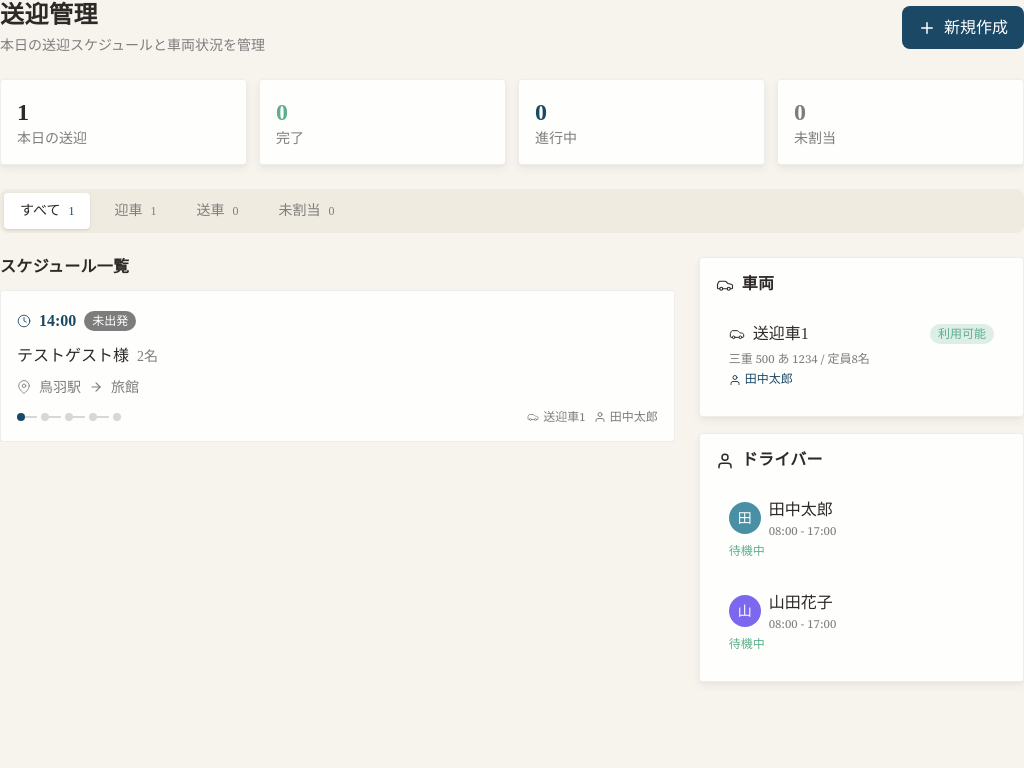
Test: TaskDetailModalの共通Modal移行 › ESCキーでTaskDetailModalが閉じる
Click the text "テストゲスト様" at (88, 356), box [17,347,158,364]
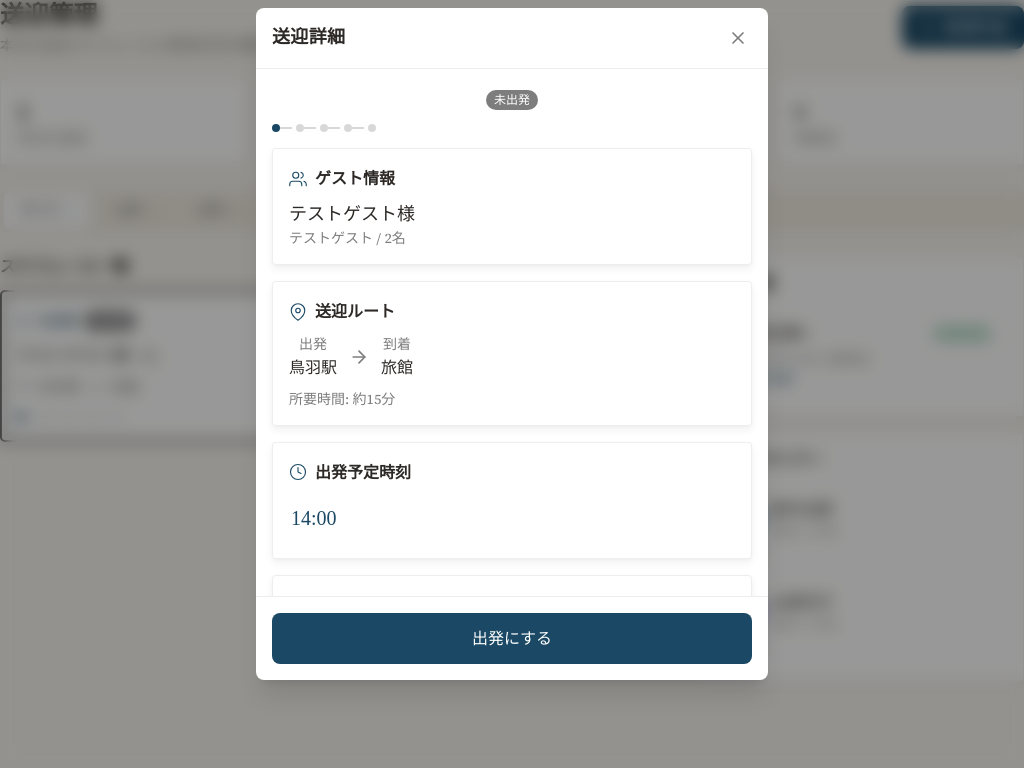
Check: the dialog is shown, box [256,8,768,680]
Press Escape
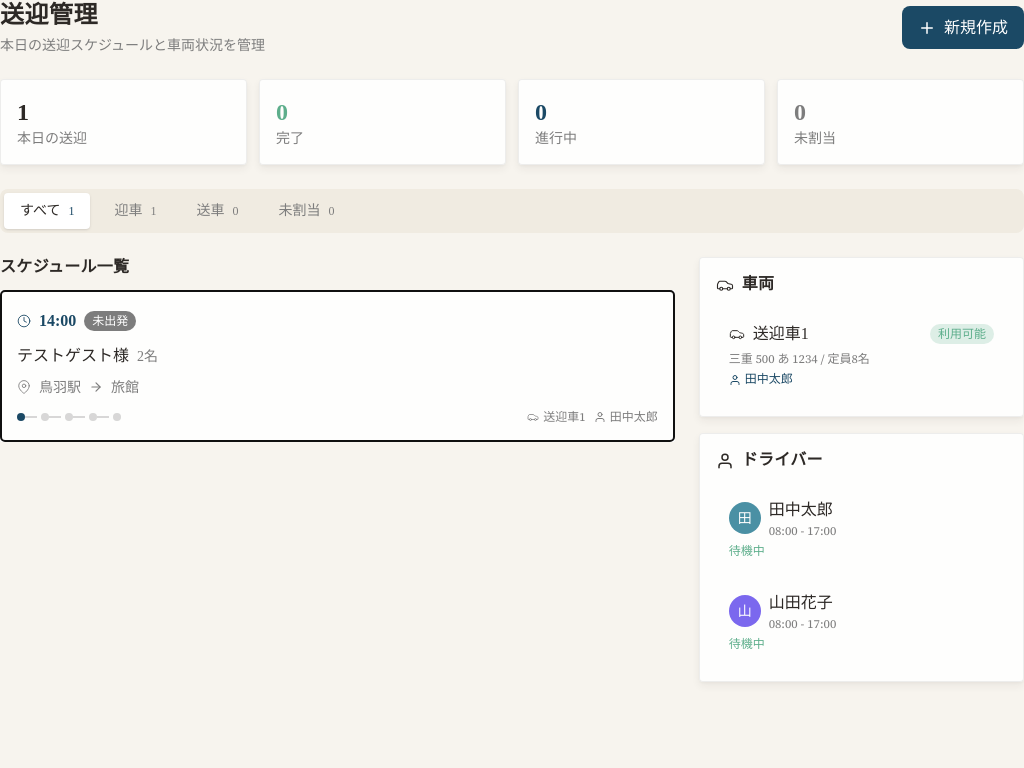
Check: the dialog is gone
